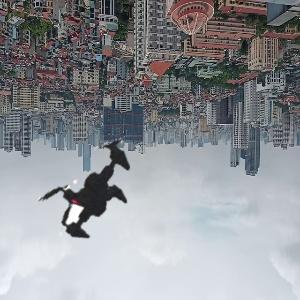drone: (7, 104, 171, 268)
